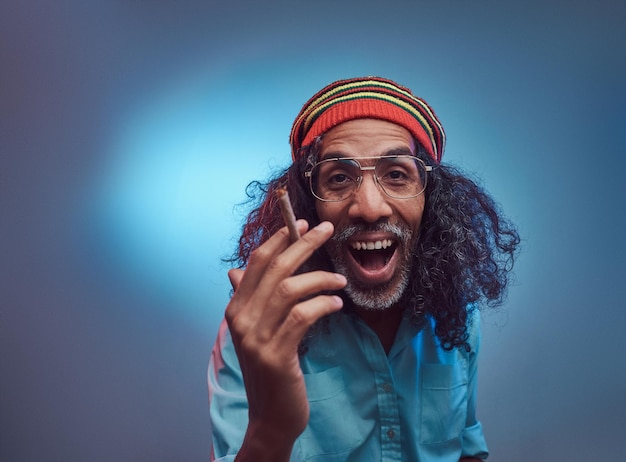cigarette: (272, 186, 301, 242)
